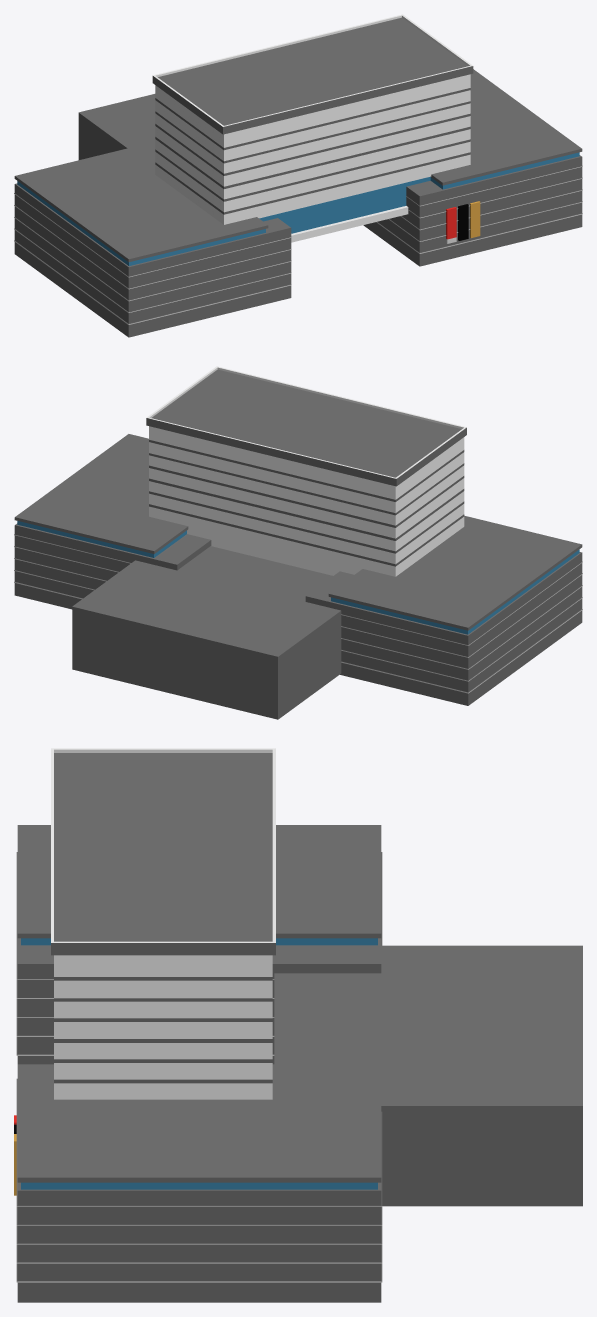
Rendered from kokuraeki.glb.
3 views of the same model, one above another, from view 1: azimuth 30°, elevation 25°; view 2: azimuth 150°, elevation 25°; view 3: azimuth 270°, elevation 25° (orthographic). The views are drawn at different scales.
Visible parts, largest first — view 1: 立方体.001, Cube, Cube.001, 立方体; view 2: 立方体.001, 立方体, Cube, Cube.001; view 3: Cube.001, 立方体.001, 立方体, Cube.
Boxes of the visible parts, x1,y1,x2,y2 form: 立方体.001: [152, 14, 473, 242]; Cube: [14, 142, 291, 337]; Cube.001: [363, 69, 582, 266]; 立方体: [78, 94, 155, 159]; 立方体.001: [146, 366, 466, 576]; 立方体: [72, 546, 341, 719]; Cube: [305, 515, 582, 705]; Cube.001: [14, 434, 211, 609]; Cube.001: [16, 1064, 382, 1302]; 立方体.001: [51, 748, 275, 1099]; 立方体: [274, 945, 582, 1206]; Cube: [16, 825, 382, 1064].
Size of the model in its own units: 8.07 by 3.01 by 5.48.
